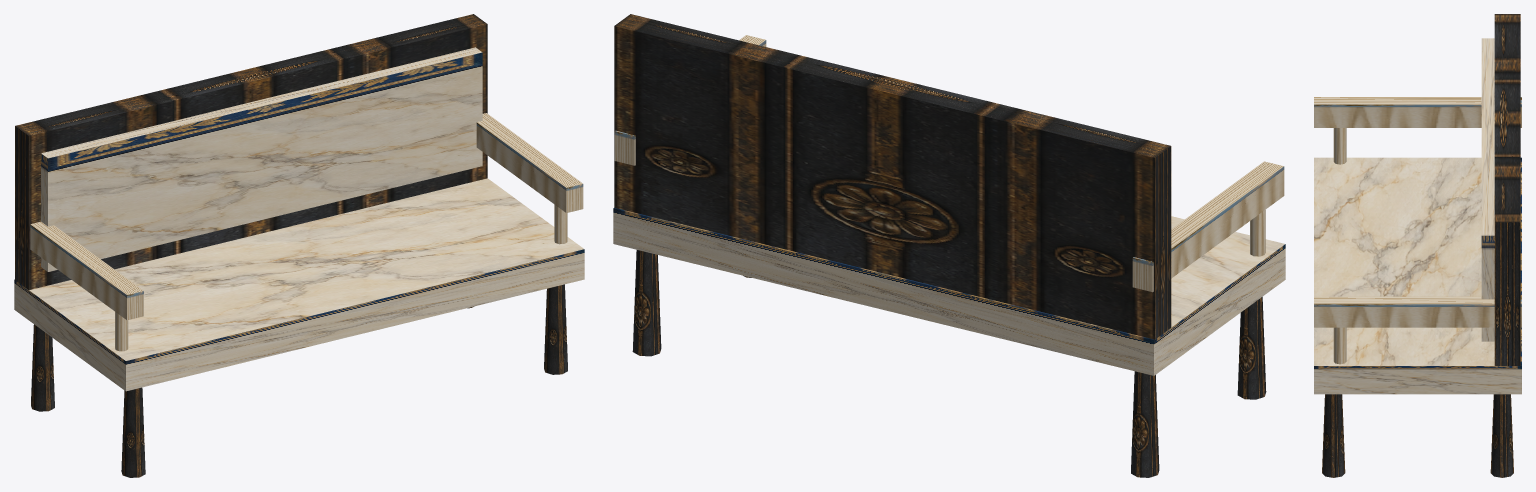
File: empire-settee.gltf
3 views of the same model, side by side, from view 1: azimuth 30°, elevation 25°; view 2: azimuth 150°, elevation 25°; view 3: azimuth 270°, elevation 25° (orthographic). The views are drawn at different scales.
Visible parts, largest first — view 1: kit:0:furniture:blue:, kit:0:furniture:mahogany:, kit:0:furniture:gold:; view 2: kit:0:furniture:mahogany:, kit:0:furniture:blue:, kit:0:furniture:gold:; view 3: kit:0:furniture:blue:, kit:0:furniture:mahogany:, kit:0:furniture:gold:.
Boxes of the visible parts, left/top/right/bottom form: kit:0:furniture:blue:: left=14, top=47, right=584, bottom=391; kit:0:furniture:mahogany:: left=15, top=14, right=567, bottom=477; kit:0:furniture:gold:: left=30, top=113, right=583, bottom=351; kit:0:furniture:mahogany:: left=614, top=14, right=1266, bottom=477; kit:0:furniture:blue:: left=613, top=207, right=1285, bottom=375; kit:0:furniture:gold:: left=614, top=35, right=1284, bottom=292; kit:0:furniture:blue:: left=1314, top=38, right=1521, bottom=394; kit:0:furniture:mahogany:: left=1322, top=14, right=1520, bottom=477; kit:0:furniture:gold:: left=1314, top=97, right=1521, bottom=364.
Bounding box in the file's own units: 1.9 × 1.1 × 0.8.
3 materials, 3 textured.
